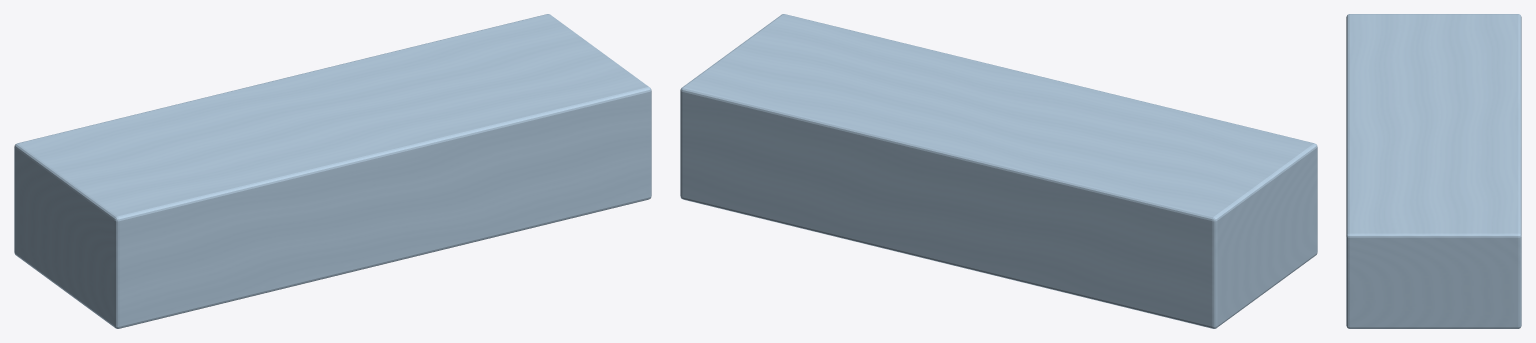
Rendered from milkblue.glb.
3 renders of one model, left to right at view 1: azimuth 30°, elevation 25°; view 2: azimuth 150°, elevation 25°; view 3: azimuth 270°, elevation 25°, orthographic. The views are drawn at different scales.
Visible parts, largest first — view 1: Block_L01_S1; view 2: Block_L01_S1; view 3: Block_L01_S1.
Boxes of the visible parts, left/top/right/bottom form: Block_L01_S1: left=14, top=14, right=651, bottom=328; Block_L01_S1: left=680, top=14, right=1317, bottom=328; Block_L01_S1: left=1346, top=14, right=1521, bottom=328.
Bounding box in the file's own units: 0.075 × 0.015 × 0.025.
Materials: 1 (1 with a texture image).
